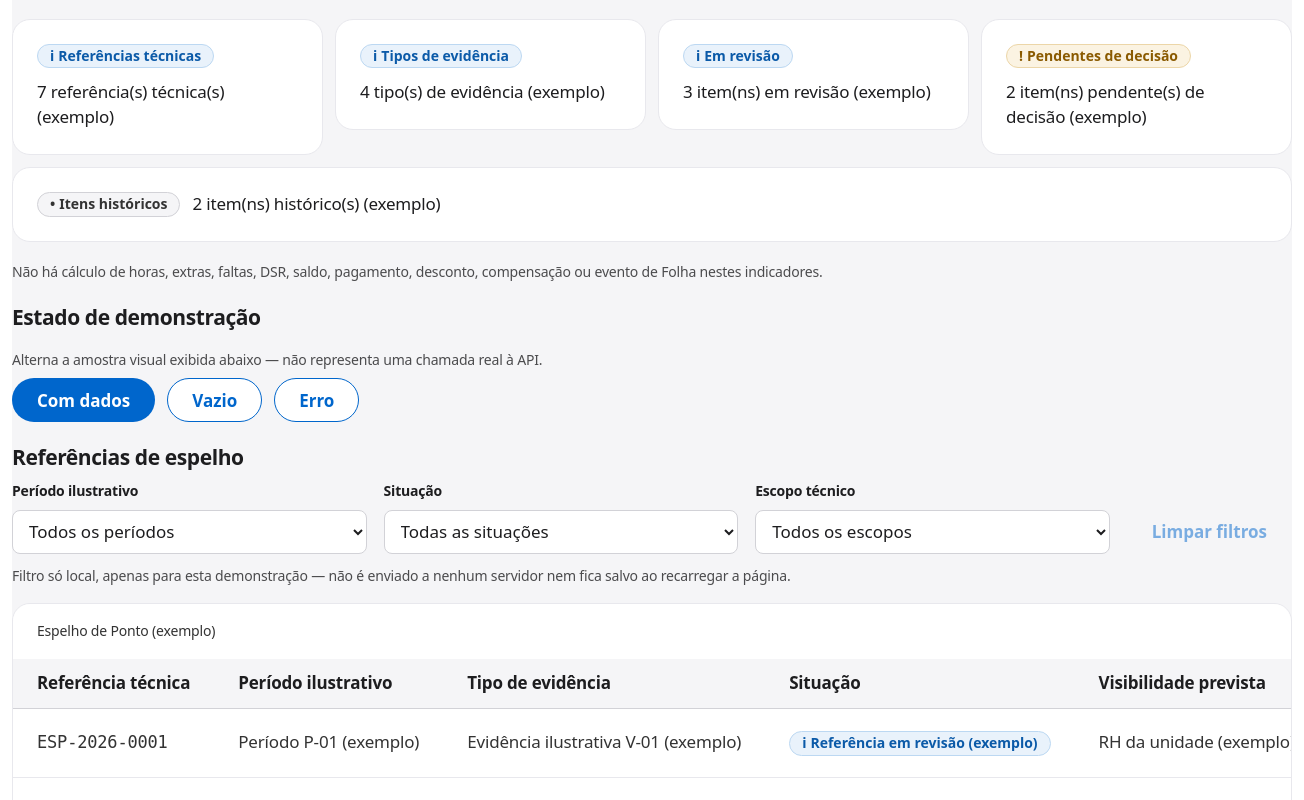
Scenario: EspelhoPontoScreen (T099 — tela visual estática) › alterna para o estado vazio e mostra o EmptyState
(page scrolled)
Click the button "Vazio". click: (215, 400)
box: [167,378,262,422]
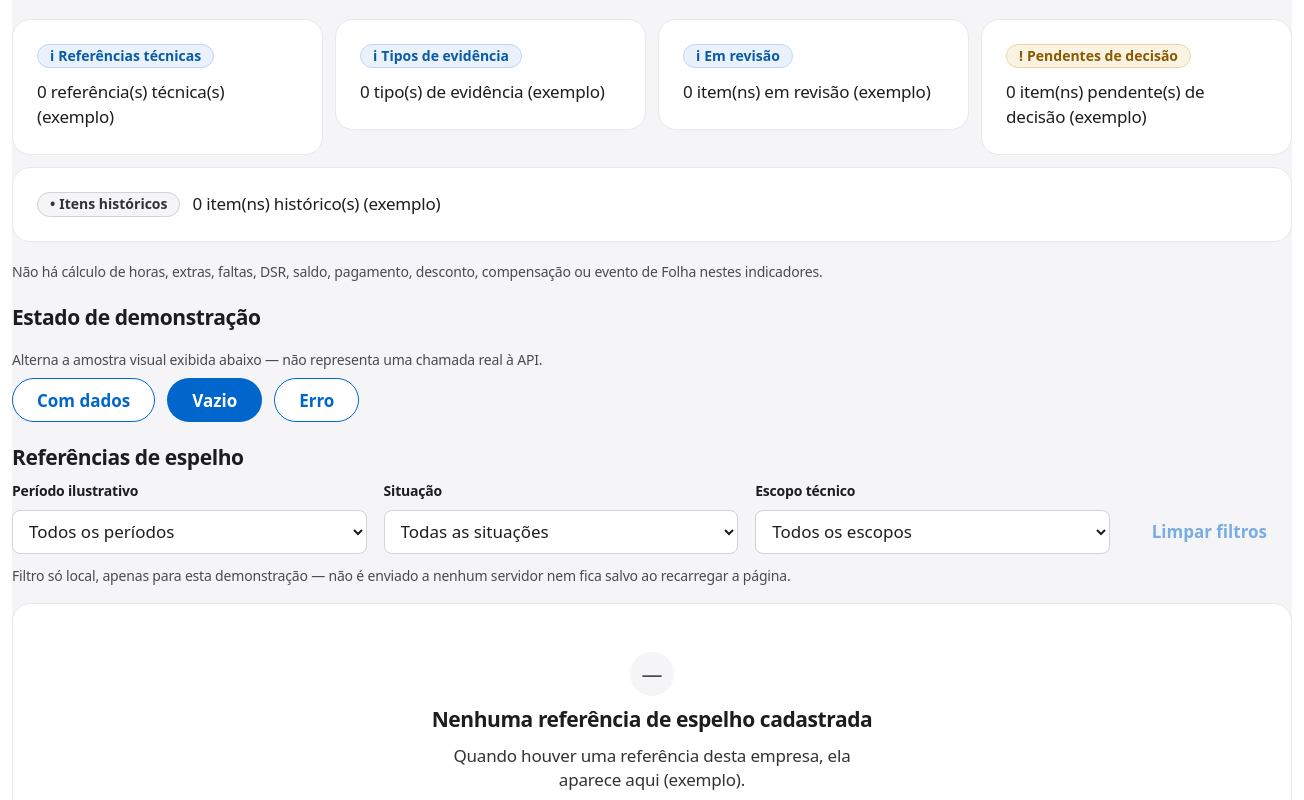
Expected: the text "Espelho de Ponto (exemplo)" is gone
Expected: the heading "Nenhuma referência de espelho cadastrada" is shown, [432,708,872,732]
